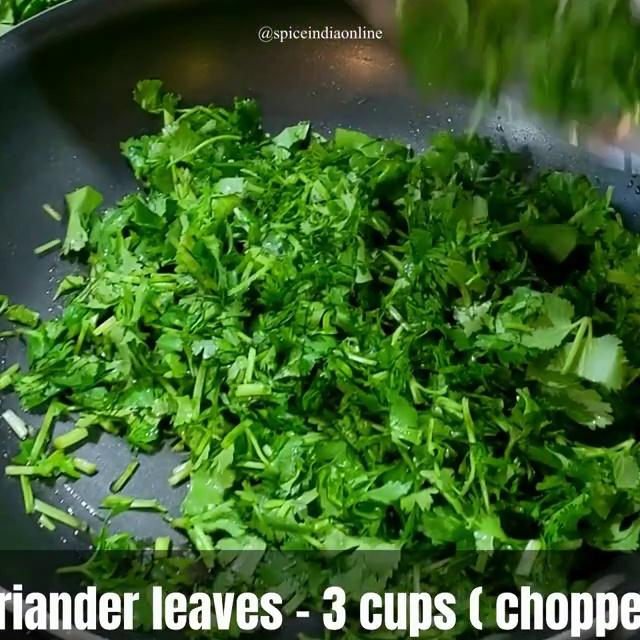cilantro: (96, 126, 637, 516)
